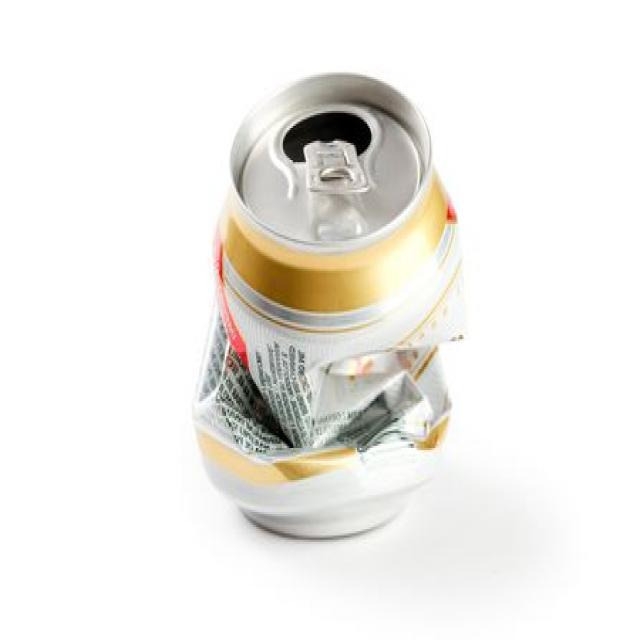can: (147, 59, 470, 562)
